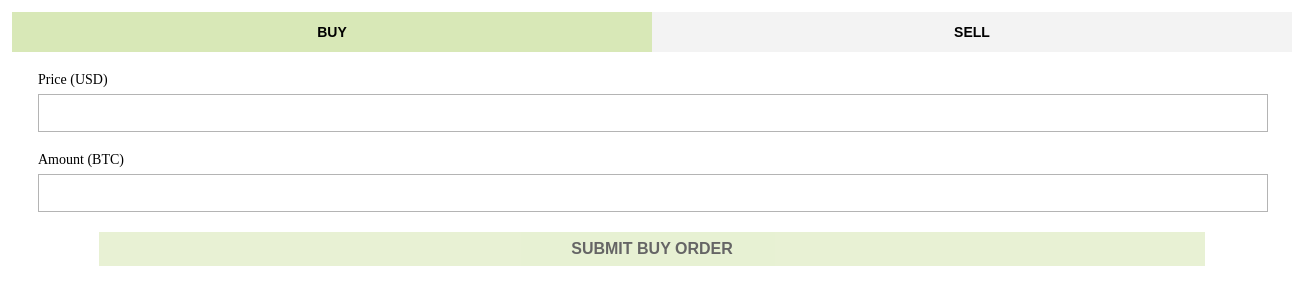
Test: CreateOrderForm › Should have submit order button disabled when form is not valid
Expected: the button with test id "submitOrderButton" is disabled, [99,232,1205,266]
Type "1000" into the field with test id "priceInput" at (653, 113), box [38,94,1268,132]
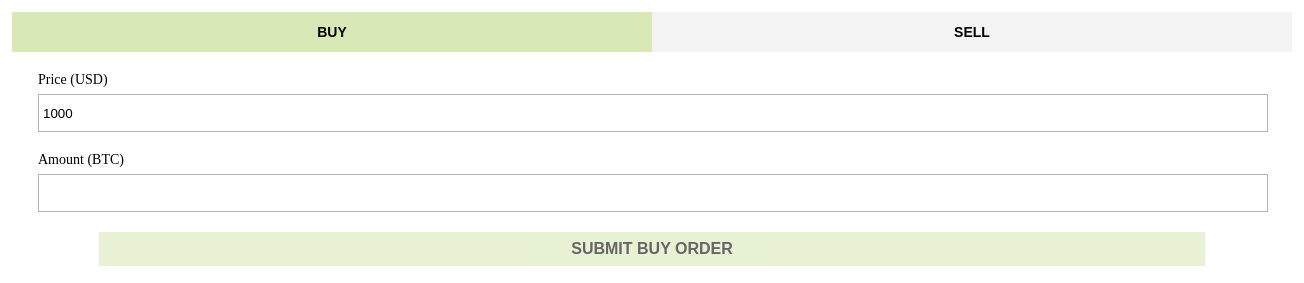
Expected: the button with test id "submitOrderButton" is disabled, [99,232,1205,266]
Type "1" into the field with test id "volumeInput" at (653, 193), box [38,174,1268,212]
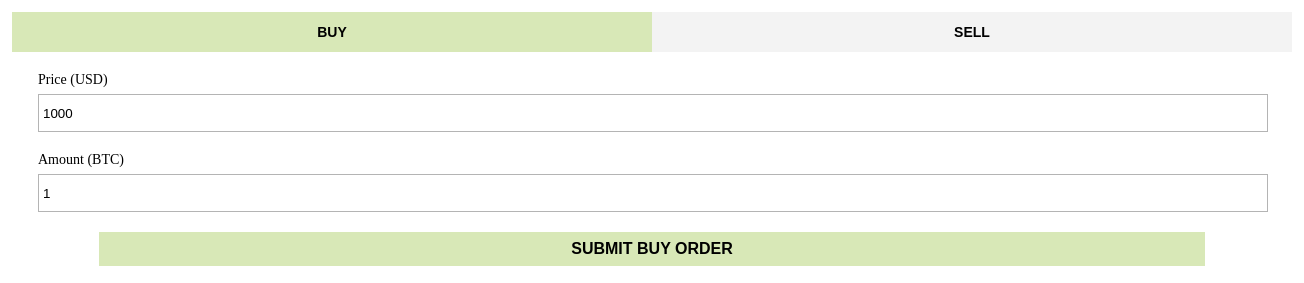
Result: the button with test id "submitOrderButton" is enabled at [99,232,1205,266]
